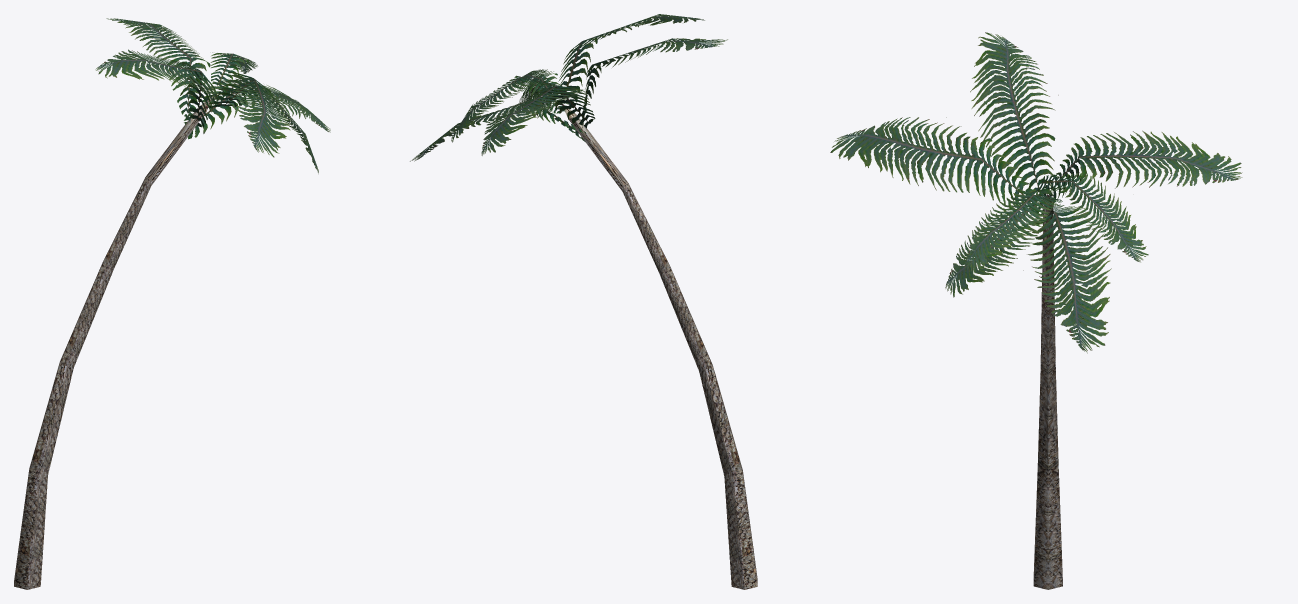
The model's file is bush_palm.fbx.
The picture shows the model from 3 angles, left to right: view 1: azimuth 30°, elevation 25°; view 2: azimuth 150°, elevation 25°; view 3: azimuth 270°, elevation 25°; orthographic projection. The views are drawn at different scales.
Visible parts, largest first — view 1: Mesh Object; view 2: Mesh Object; view 3: Mesh Object.
Part boxes in pixels (left/top/right/bottom): Mesh Object: left=14, top=18, right=330, bottom=589; Mesh Object: left=410, top=14, right=757, bottom=589; Mesh Object: left=830, top=32, right=1242, bottom=589.
Size of the model in its own units: 5.41 by 7.64 by 5.87.
